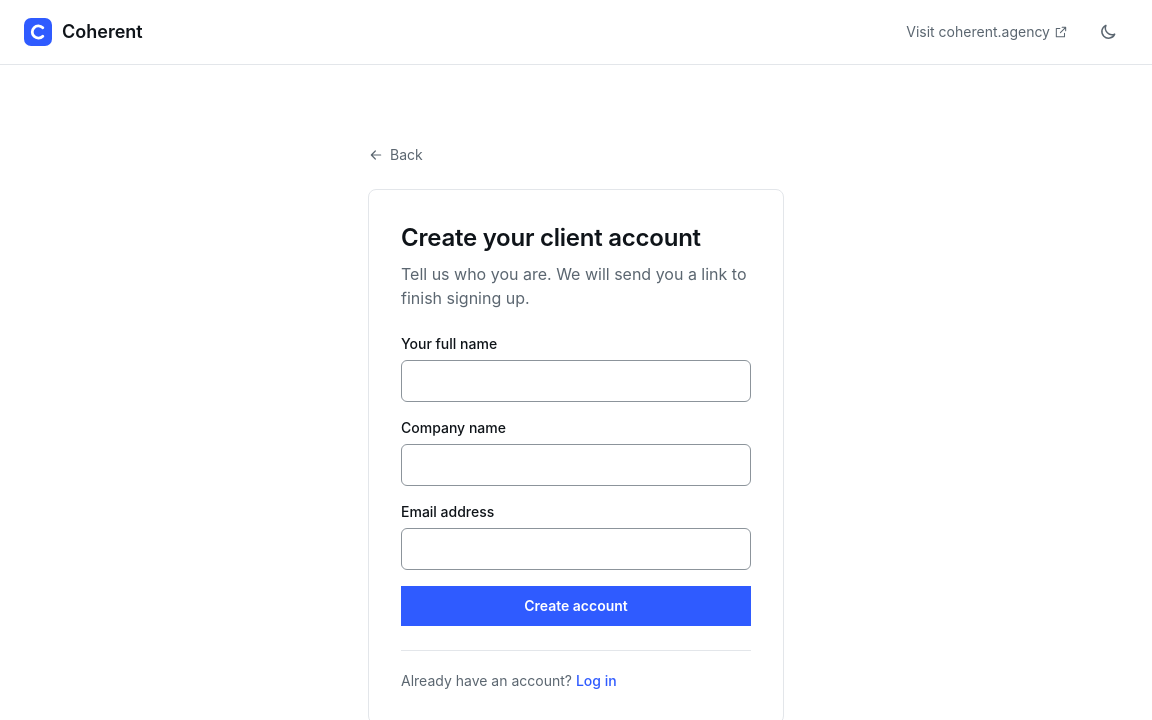
signup › client signup sends only full_name and company_name as metadata
The image size is (1152, 720).
Type "Maya Chen" into the field labelled "Your full name" at (576,381), box [401,360,751,402]
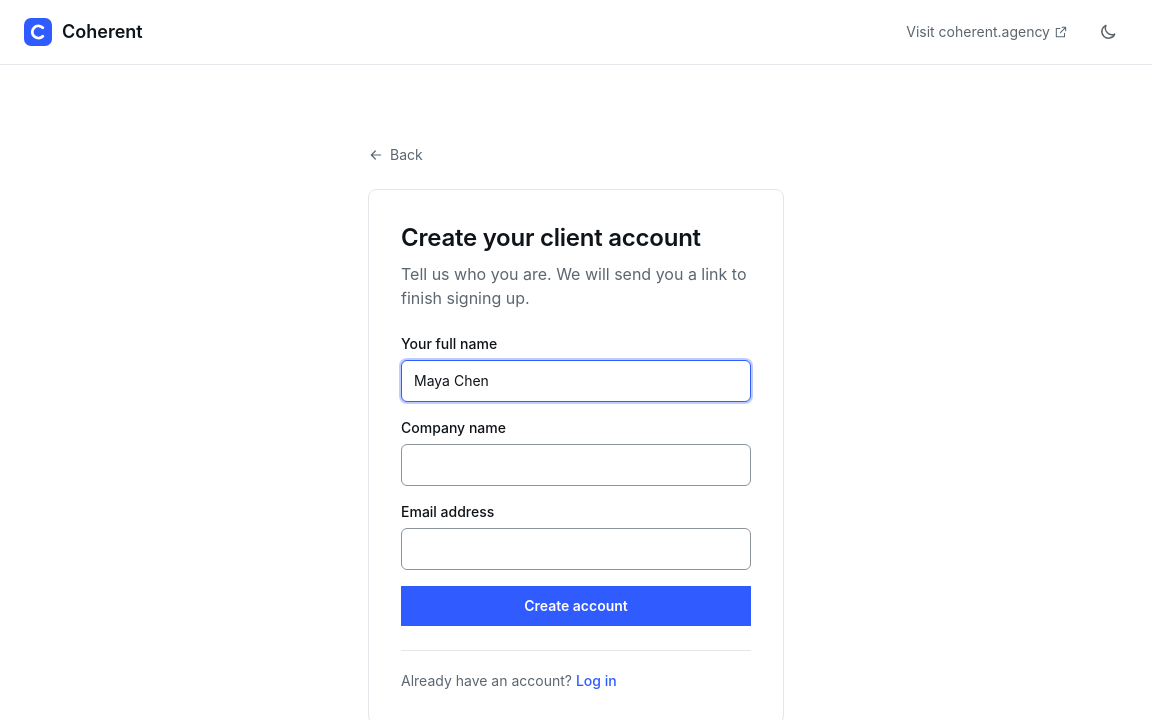
Type "Acme Bakery" into the field labelled "Company name" at (576,465), box [401,444,751,486]
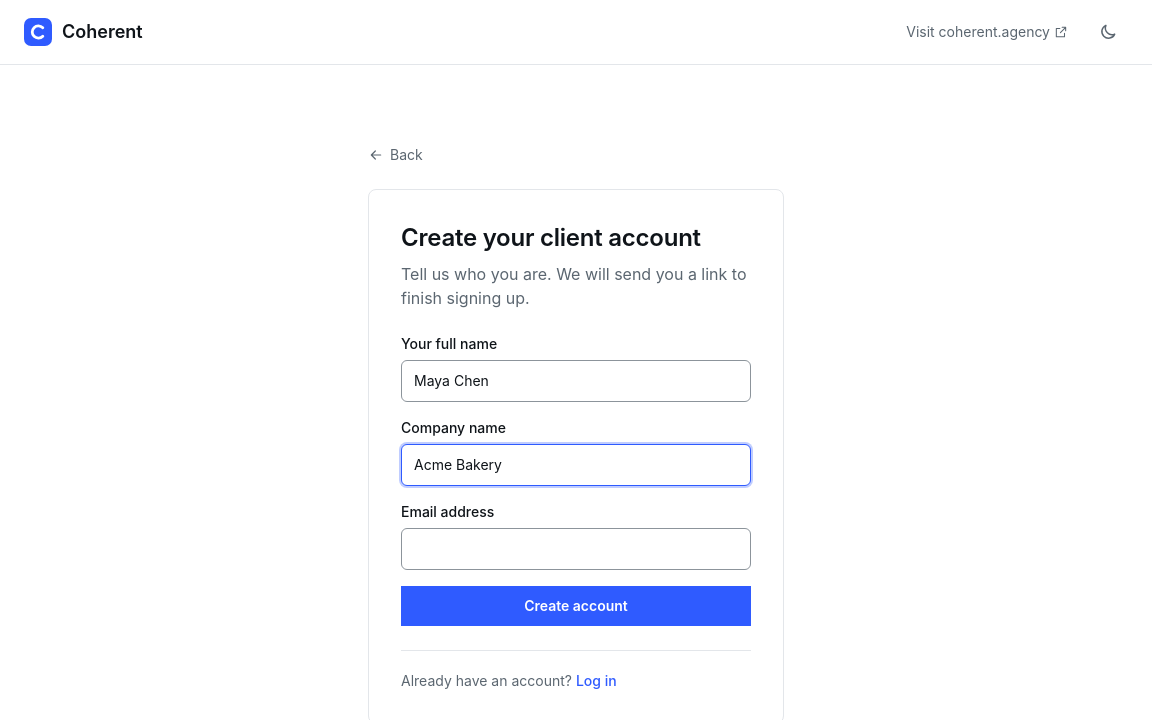
Type "maya@acme.test" into the field labelled "Email address" at (576,549), box [401,528,751,570]
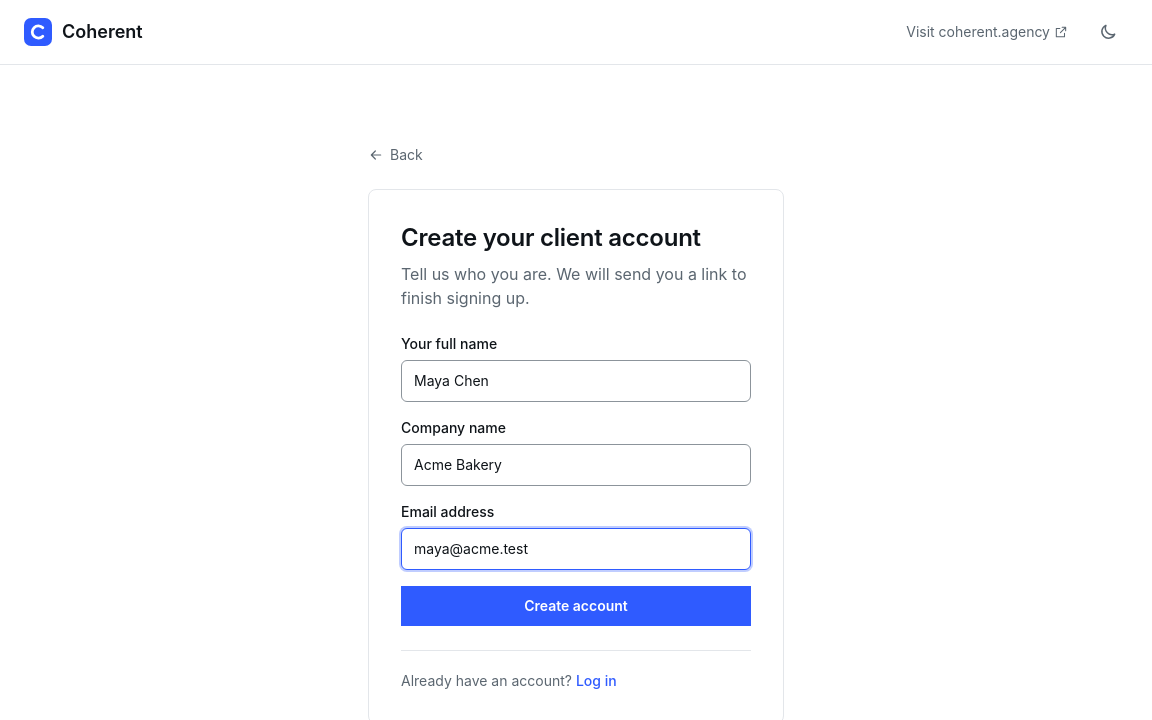
Click the button "Create account" at (576,606), box [401,586,751,626]
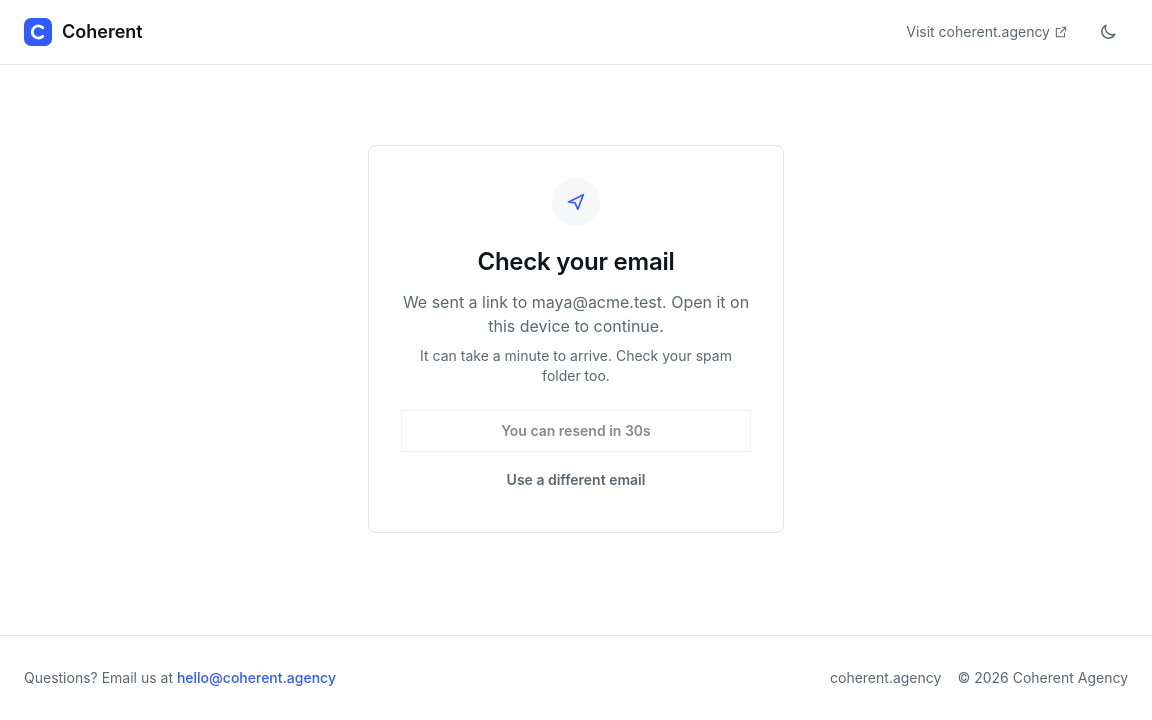
expect the heading "Check your email" is shown: met, box [477,247,674,276]
